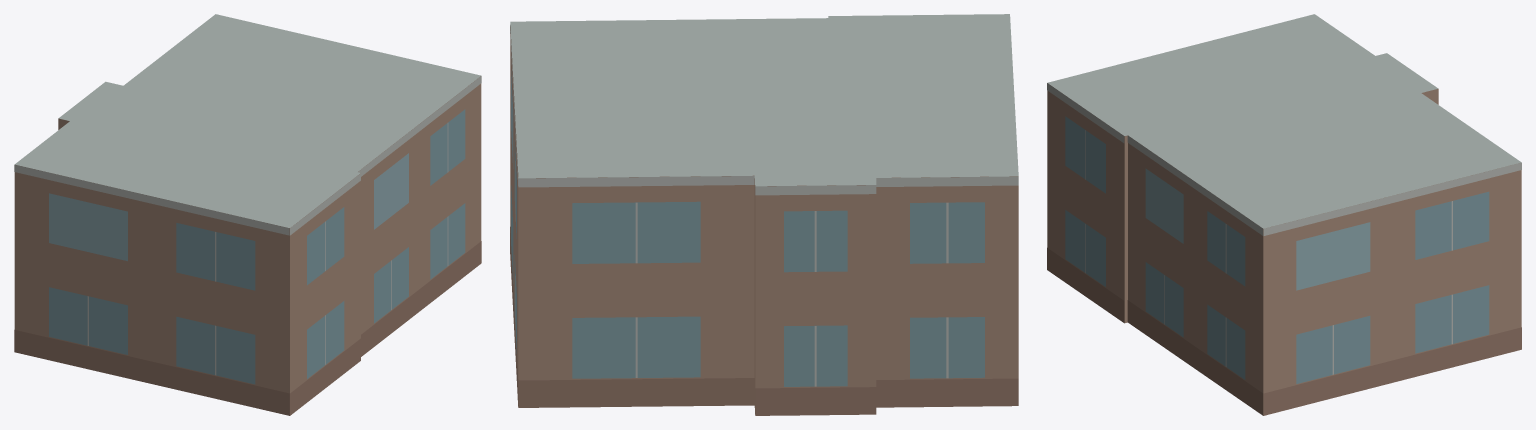
File: survey-upis-32834731.glb
The picture shows the model from 3 angles, left to right: view 1: azimuth 30°, elevation 25°; view 2: azimuth 150°, elevation 25°; view 3: azimuth 270°, elevation 25°; orthographic projection. The views are drawn at different scales.
Visible parts, largest first — view 1: survey-upis-32834731.tmp; view 2: survey-upis-32834731.tmp; view 3: survey-upis-32834731.tmp.
Boxes of the visible parts, bbox=[...] form: survey-upis-32834731.tmp: bbox=[14, 14, 481, 415]; survey-upis-32834731.tmp: bbox=[510, 14, 1018, 415]; survey-upis-32834731.tmp: bbox=[1047, 14, 1521, 415].
Size of the model in its own units: 15.02 by 6.1 by 14.03.
